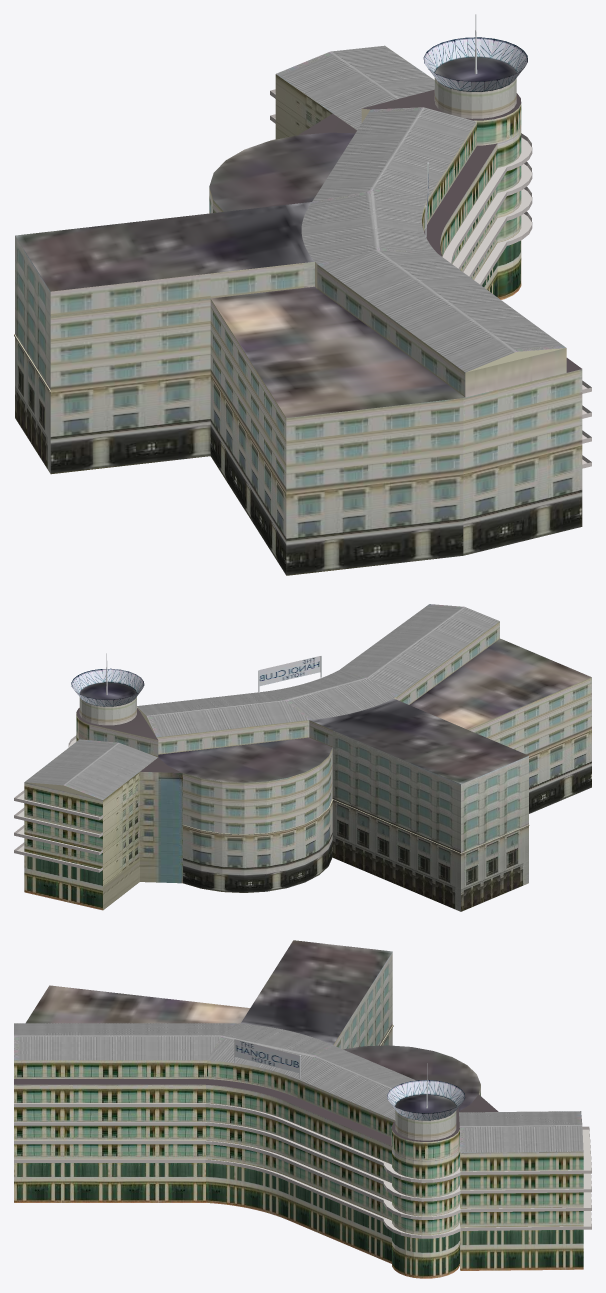
3 views of the same model, one above another, from view 1: azimuth 30°, elevation 25°; view 2: azimuth 150°, elevation 25°; view 3: azimuth 270°, elevation 25° (orthographic). The views are drawn at different scales.
Parts seen in each view (by area): view 1: HN012___The_Hanoi_Club; view 2: HN012___The_Hanoi_Club; view 3: HN012___The_Hanoi_Club.
Part boxes in pixels (x1,y1,x2,y2): HN012___The_Hanoi_Club: (14, 14, 591, 575); HN012___The_Hanoi_Club: (14, 604, 591, 911); HN012___The_Hanoi_Club: (14, 940, 591, 1278).
Bounding box in the file's own units: 71 × 32.4 × 84.32.
1 material, 1 textured.
